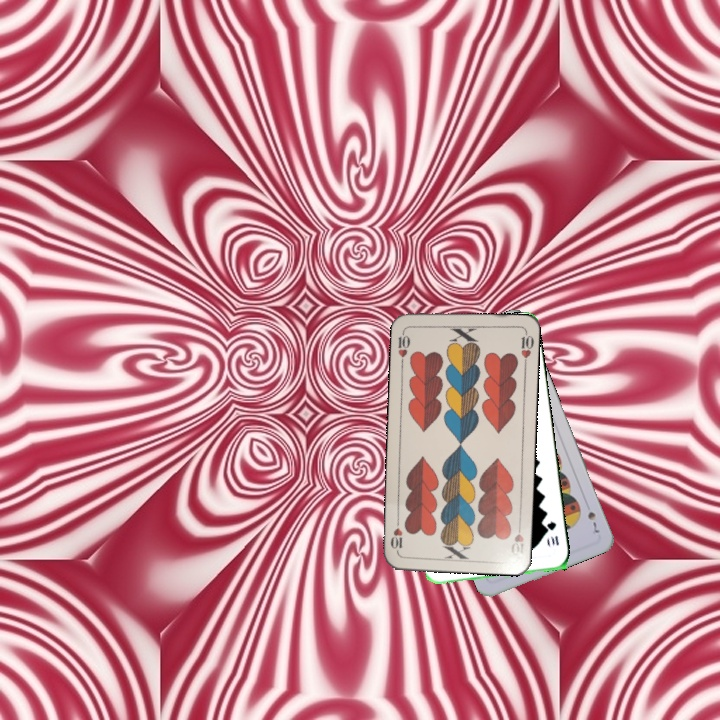G10: (543, 517, 561, 548)
H10: (507, 518, 526, 559), (394, 325, 412, 366)
S7: (583, 507, 601, 536)
